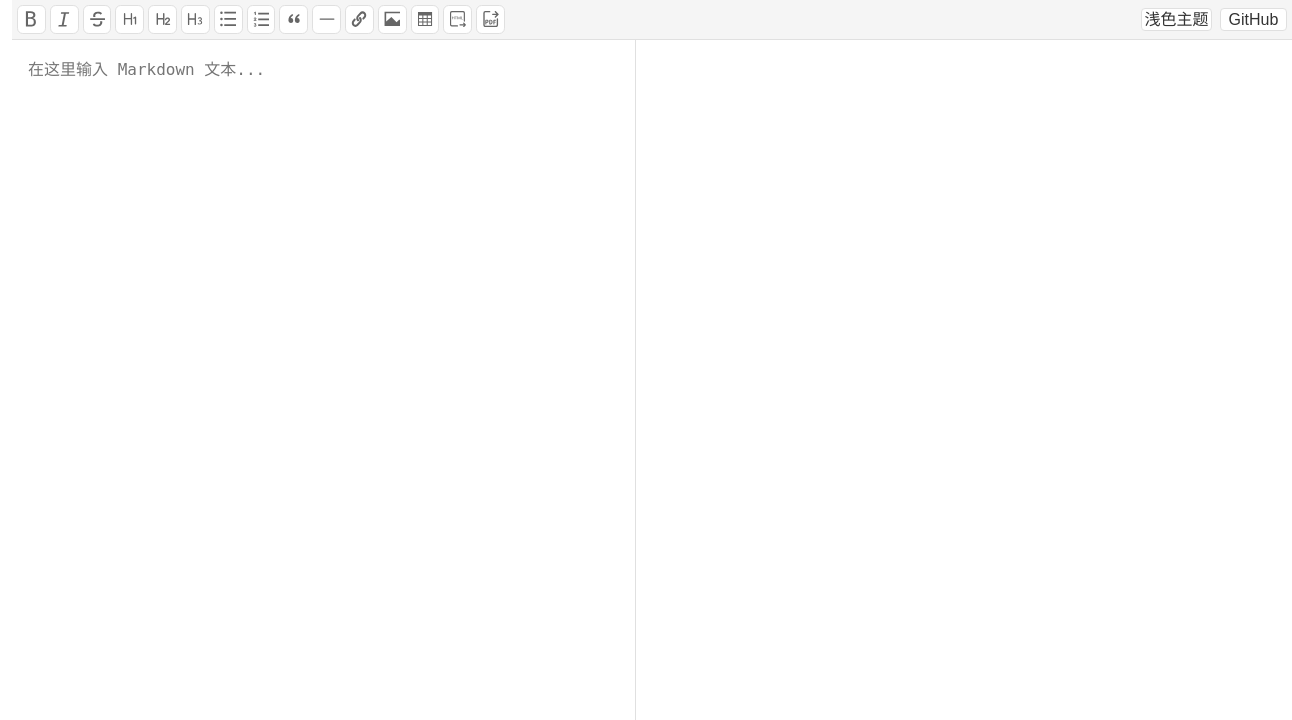
Test: Markdown Editor Basic Functionality › Toolbar functionality › should apply bold formatting
The image size is (1292, 720).
Type "test text" into the text box with placeholder "在这里输入 Markdown 文本..." at [324, 380], box [12, 40, 636, 719]
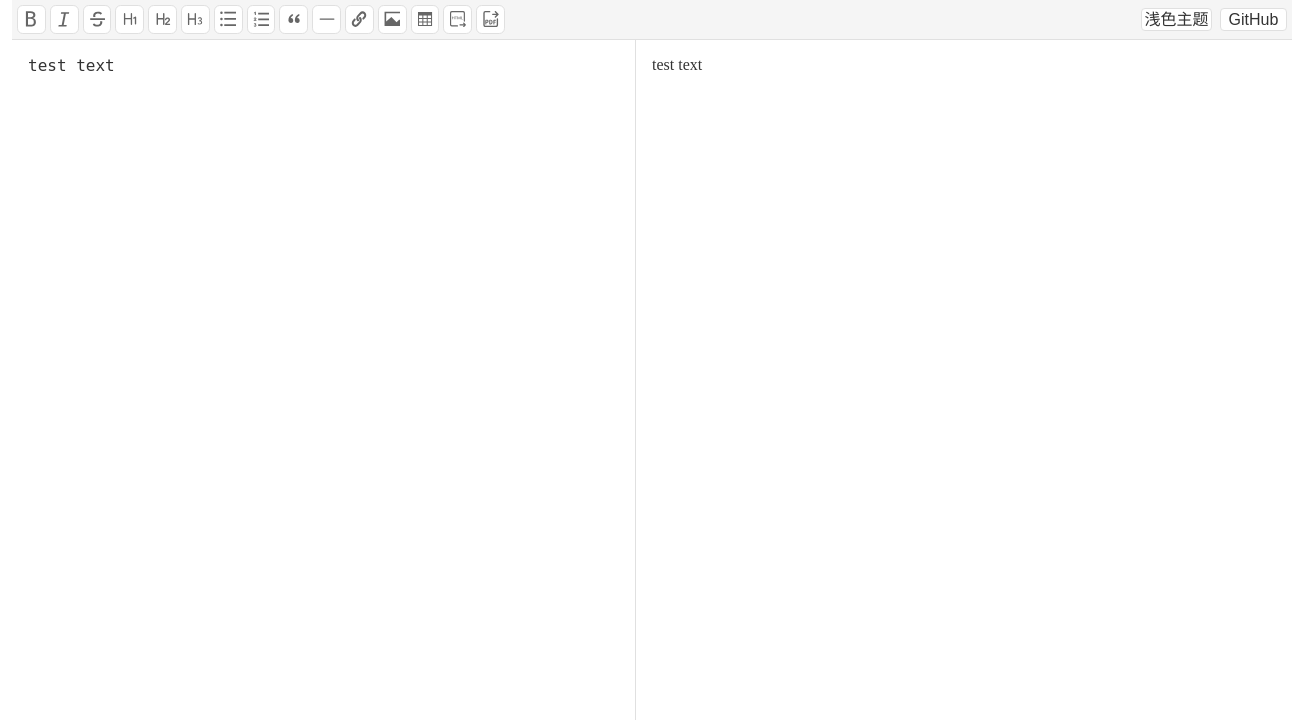
Press Selectall in the text box, box [12, 40, 636, 719]
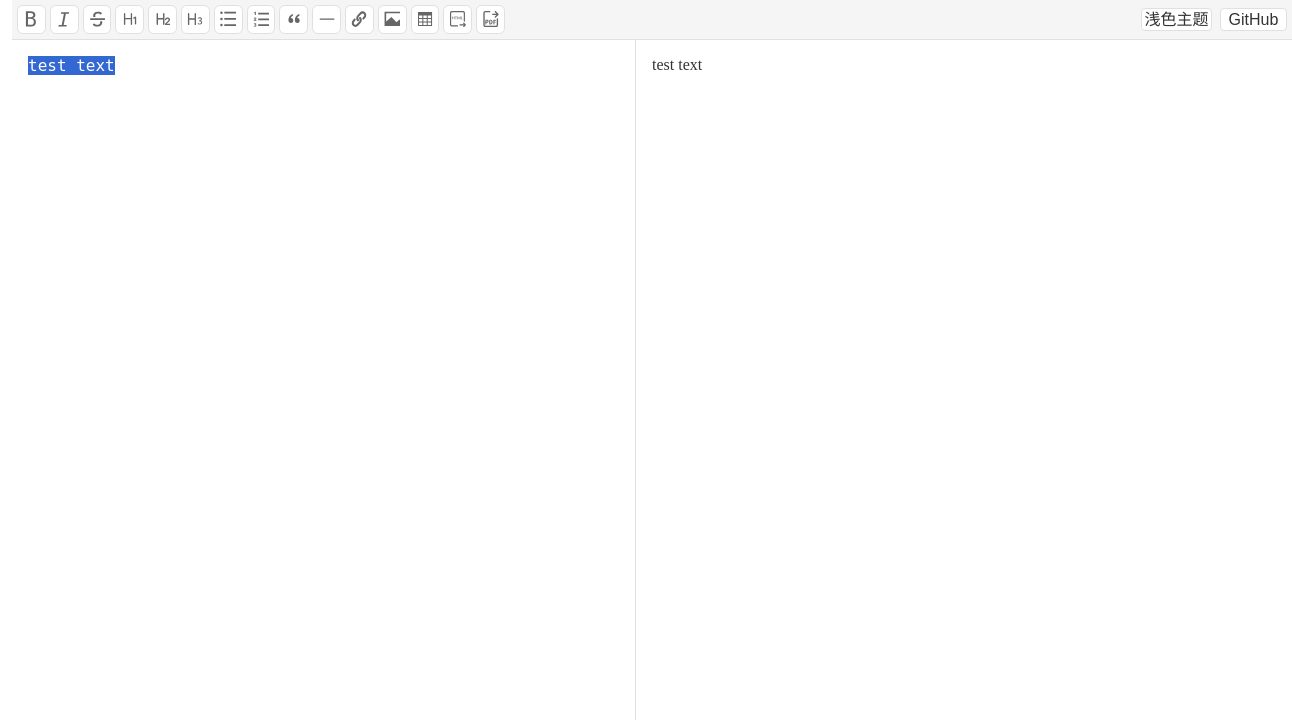
Click the button named "加粗 (Ctrl+B)" at [32, 20], box [17, 5, 46, 34]
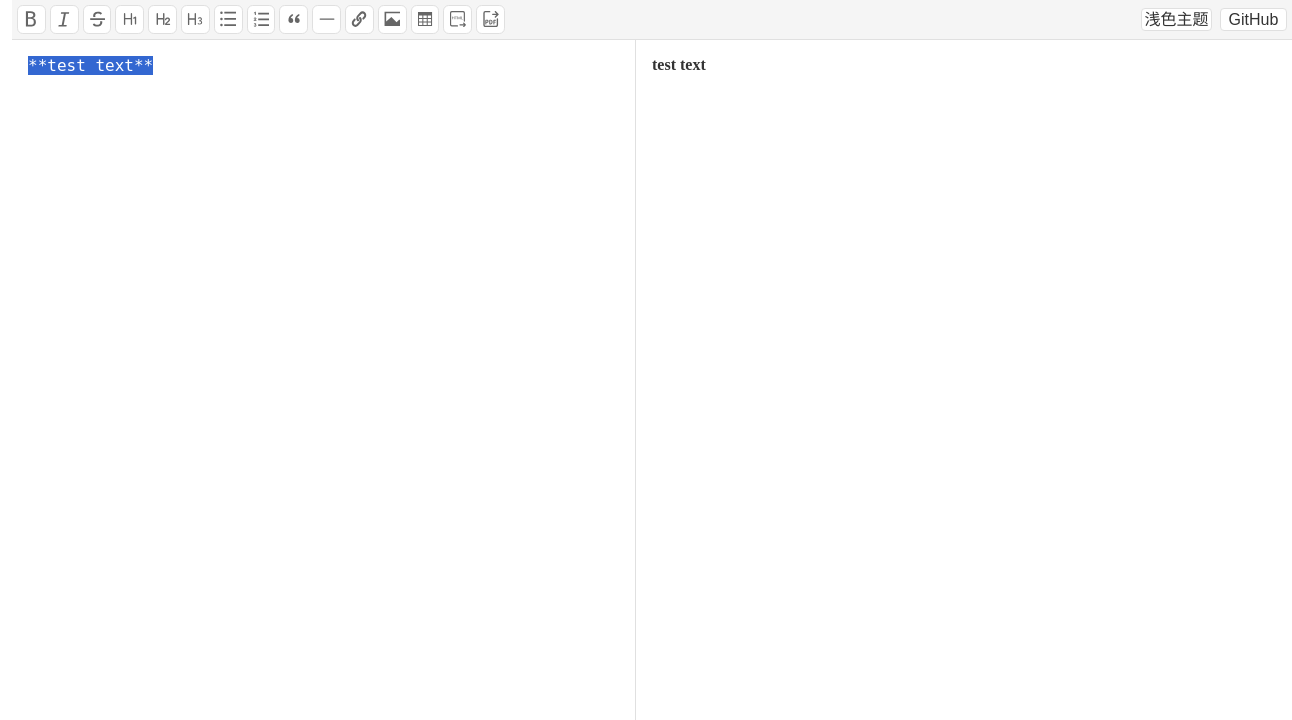
Check: the text "test text" is shown, box [652, 56, 706, 73]
Check: the text box holds "**test text**", box [12, 40, 636, 719]
